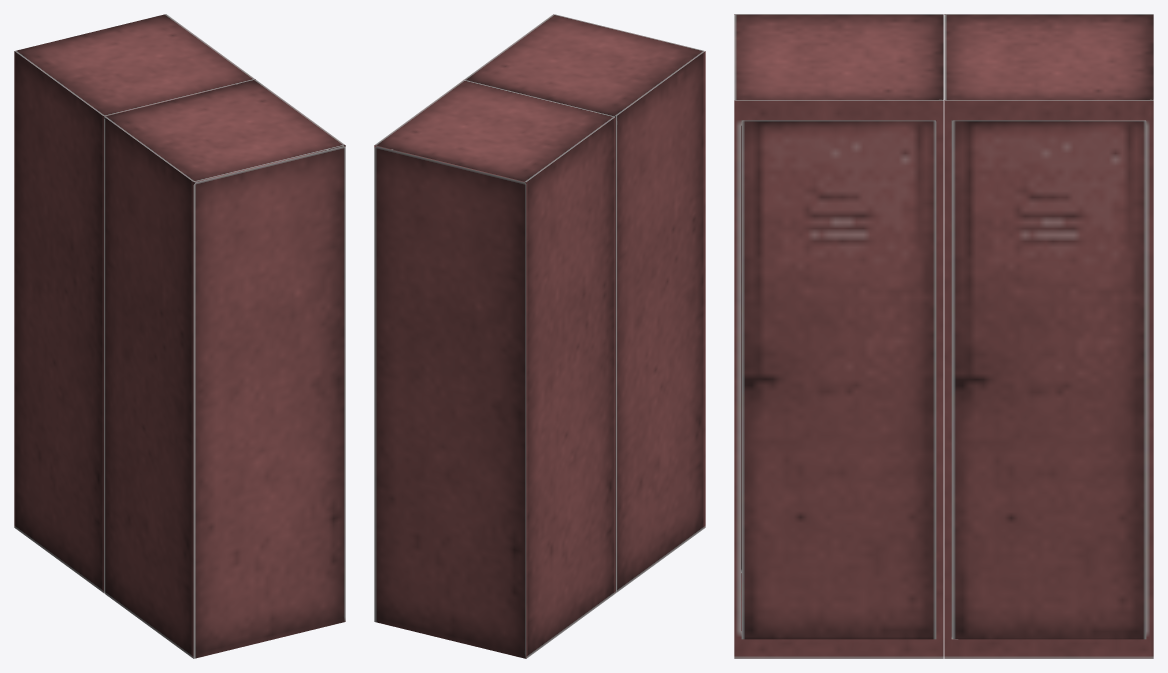
Rendered from Red Double Lockers.fbx.
3 views of the same model, side by side, from view 1: azimuth 30°, elevation 25°; view 2: azimuth 150°, elevation 25°; view 3: azimuth 270°, elevation 25° (orthographic). The views are drawn at different scales.
Visible parts, largest first — view 1: Red Double Lockers; view 2: Red Double Lockers; view 3: Lockers Door.002, Lockers Door.003, Red Double Lockers.
Part boxes in pixels (x1,y1,x2,y2): Red Double Lockers: (14,14,345,658); Red Double Lockers: (374,14,705,658); Lockers Door.002: (741,120,936,639); Lockers Door.003: (951,120,1146,639); Red Double Lockers: (734,14,1153,658).
Size of the model in its own units: 100 by 300 by 204.
